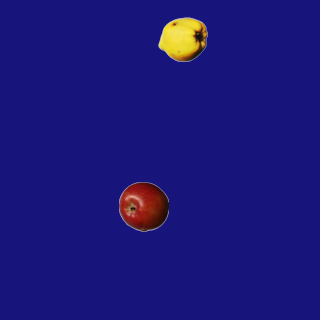Apple Braeburn: (118, 181, 168, 231)
Quince: (157, 14, 207, 64)
